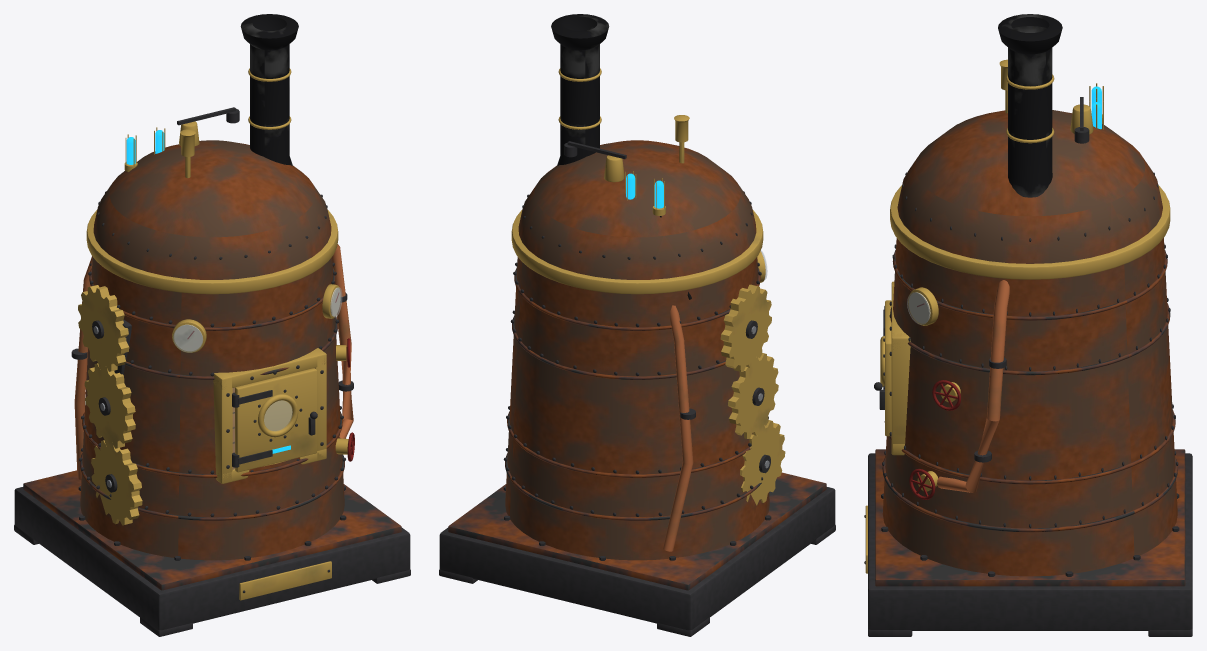
File: steam_reward_machine.glb
3 views of the same model, side by side, from view 1: azimuth 30°, elevation 25°; view 2: azimuth 150°, elevation 25°; view 3: azimuth 270°, elevation 25° (orthographic). The views are drawn at different scales.
Parts seen in each view (by area): view 1: mrg_steam_reward_machine_rust, mrg_steam_reward_machine_iron, mrg_steam_reward_machine_rustyIron, mrg_steam_reward_machine_brass, mrg_chestDoor_brass, chimney, rg2, rg1, mrg_steam_reward_machine_copper, rg0, mrg_chestDoor_iron, doorPortGlass (+2 smaller); view 2: mrg_steam_reward_machine_rust, mrg_steam_reward_machine_iron, mrg_steam_reward_machine_rustyIron, mrg_steam_reward_machine_brass, chimney, rg2, rg1, mrg_steam_reward_machine_copper, rg0; view 3: mrg_steam_reward_machine_rust, mrg_steam_reward_machine_iron, mrg_steam_reward_machine_rustyIron, mrg_steam_reward_machine_brass, chimney, mrg_steam_reward_machine_copper, mrg_chestDoor_brass, gaugeGlass1, gaugeFace1, mrg_valve1_paintRed, mrg_valve0_paintRed.
Boxes of the visible parts, box(x1,y1,x2,y2) form: mrg_steam_reward_machine_rust: box(80, 140, 344, 560); mrg_steam_reward_machine_iron: box(14, 107, 410, 636); mrg_steam_reward_machine_rustyIron: box(23, 267, 401, 590); mrg_steam_reward_machine_brass: box(86, 68, 338, 600); mrg_chestDoor_brass: box(235, 368, 316, 472); chimney: box(240, 14, 298, 165); rg2: box(78, 285, 129, 371); rg1: box(84, 363, 135, 448); mrg_steam_reward_machine_copper: box(74, 244, 353, 479); rg0: box(91, 440, 142, 525); mrg_chestDoor_iron: box(232, 389, 317, 467); doorPortGlass: box(264, 400, 292, 431); mrg_steam_reward_machine_rust: box(505, 140, 769, 560); mrg_steam_reward_machine_iron: box(439, 141, 835, 636); mrg_steam_reward_machine_rustyIron: box(448, 267, 826, 590); mrg_steam_reward_machine_brass: box(511, 68, 763, 294); chimney: box(551, 14, 609, 165); rg2: box(720, 284, 771, 371); rg1: box(728, 353, 778, 438); mrg_steam_reward_machine_copper: box(663, 305, 693, 551); rg0: box(740, 420, 785, 505); mrg_steam_reward_machine_rust: box(882, 110, 1177, 576); mrg_steam_reward_machine_iron: box(864, 97, 1192, 636); mrg_steam_reward_machine_rustyIron: box(875, 249, 1185, 586); mrg_steam_reward_machine_brass: box(865, 59, 1170, 573); chimney: box(998, 14, 1062, 197); mrg_steam_reward_machine_copper: box(937, 280, 1009, 492); mrg_chestDoor_brass: box(880, 300, 891, 436); gaugeGlass1: box(907, 292, 929, 324); gaugeFace1: box(909, 292, 930, 323); mrg_valve1_paintRed: box(932, 380, 960, 410); mrg_valve0_paintRed: box(909, 469, 935, 499).
Bounding box in the file's own units: 2.2 × 4.3 × 2.22.
Materials: 14 (9 with a texture image).
